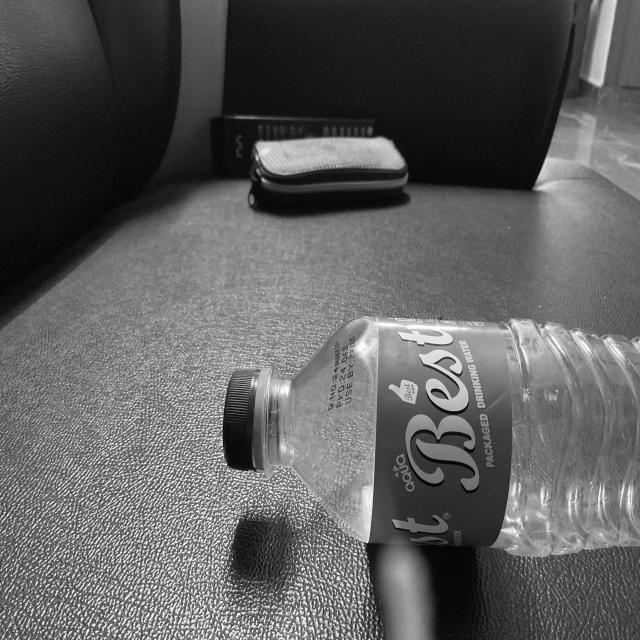Good-cap-Df0S: (221, 364, 272, 477)
